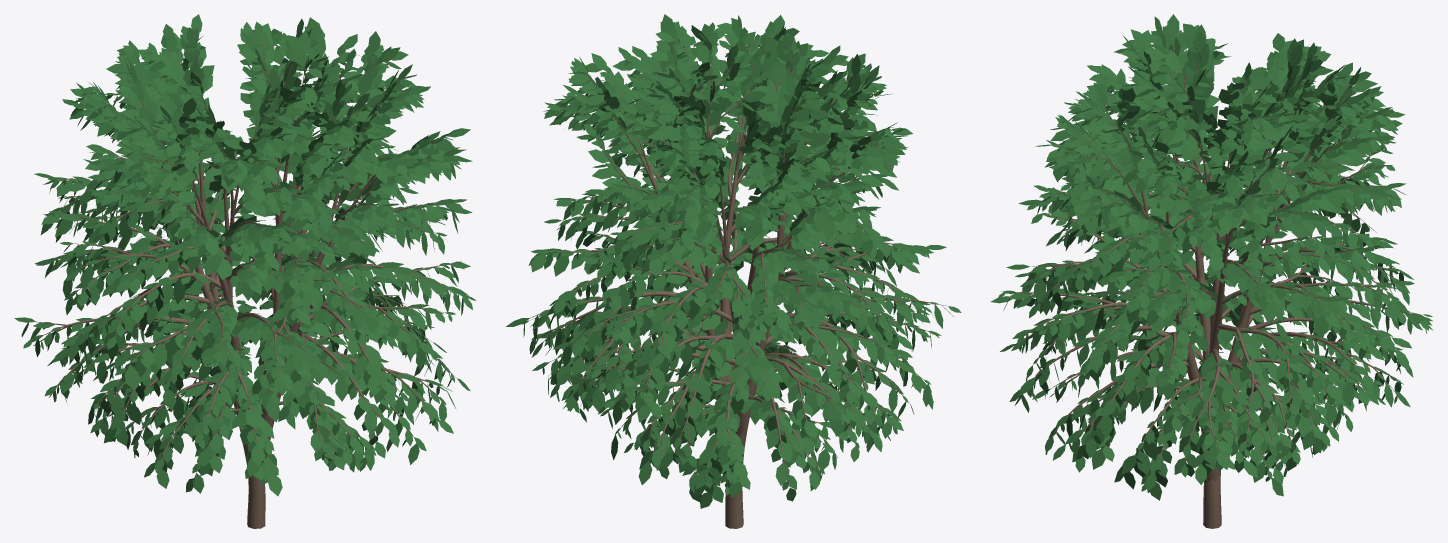
Rendered from tree_near.fbx.
The picture shows the model from 3 angles, left to right: view 1: azimuth 30°, elevation 25°; view 2: azimuth 150°, elevation 25°; view 3: azimuth 270°, elevation 25°; orthographic projection.
Visible parts, largest first — view 1: leaves, tree; view 2: leaves, tree; view 3: leaves, tree.
Boxes of the visible parts, left/top/right/bottom form: leaves: left=14, top=14, right=476, bottom=496; tree: left=29, top=37, right=455, bottom=528; leaves: left=506, top=14, right=961, bottom=508; tree: left=526, top=31, right=947, bottom=528; leaves: left=991, top=14, right=1432, bottom=500; tree: left=1010, top=35, right=1421, bottom=528.
Size of the model in its own units: 9.48 by 11.68 by 9.83.
